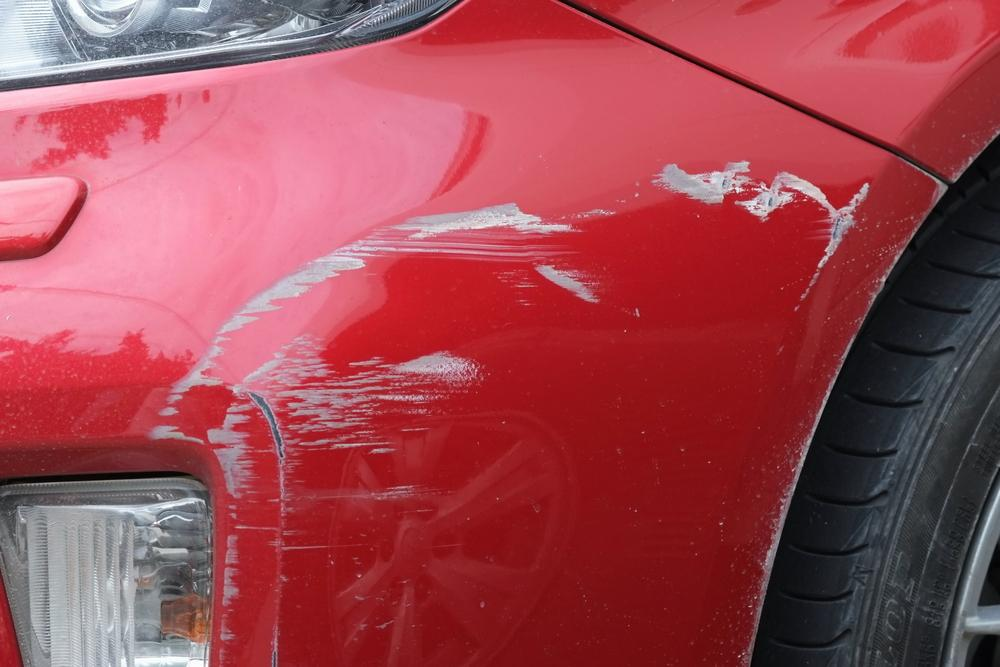scratch: (148, 152, 881, 667)
